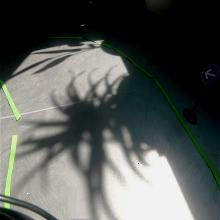left: (200, 63, 218, 86)
